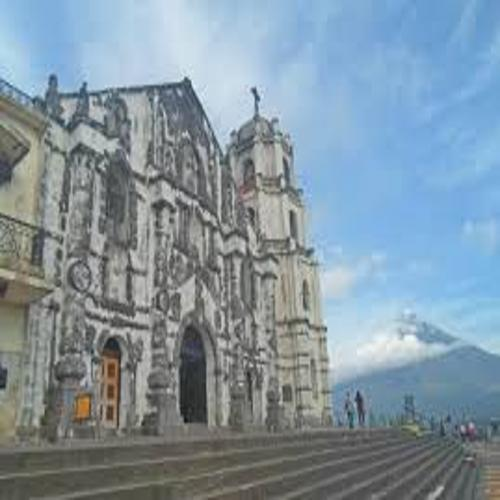Daraga Church: (38, 34, 335, 441)
